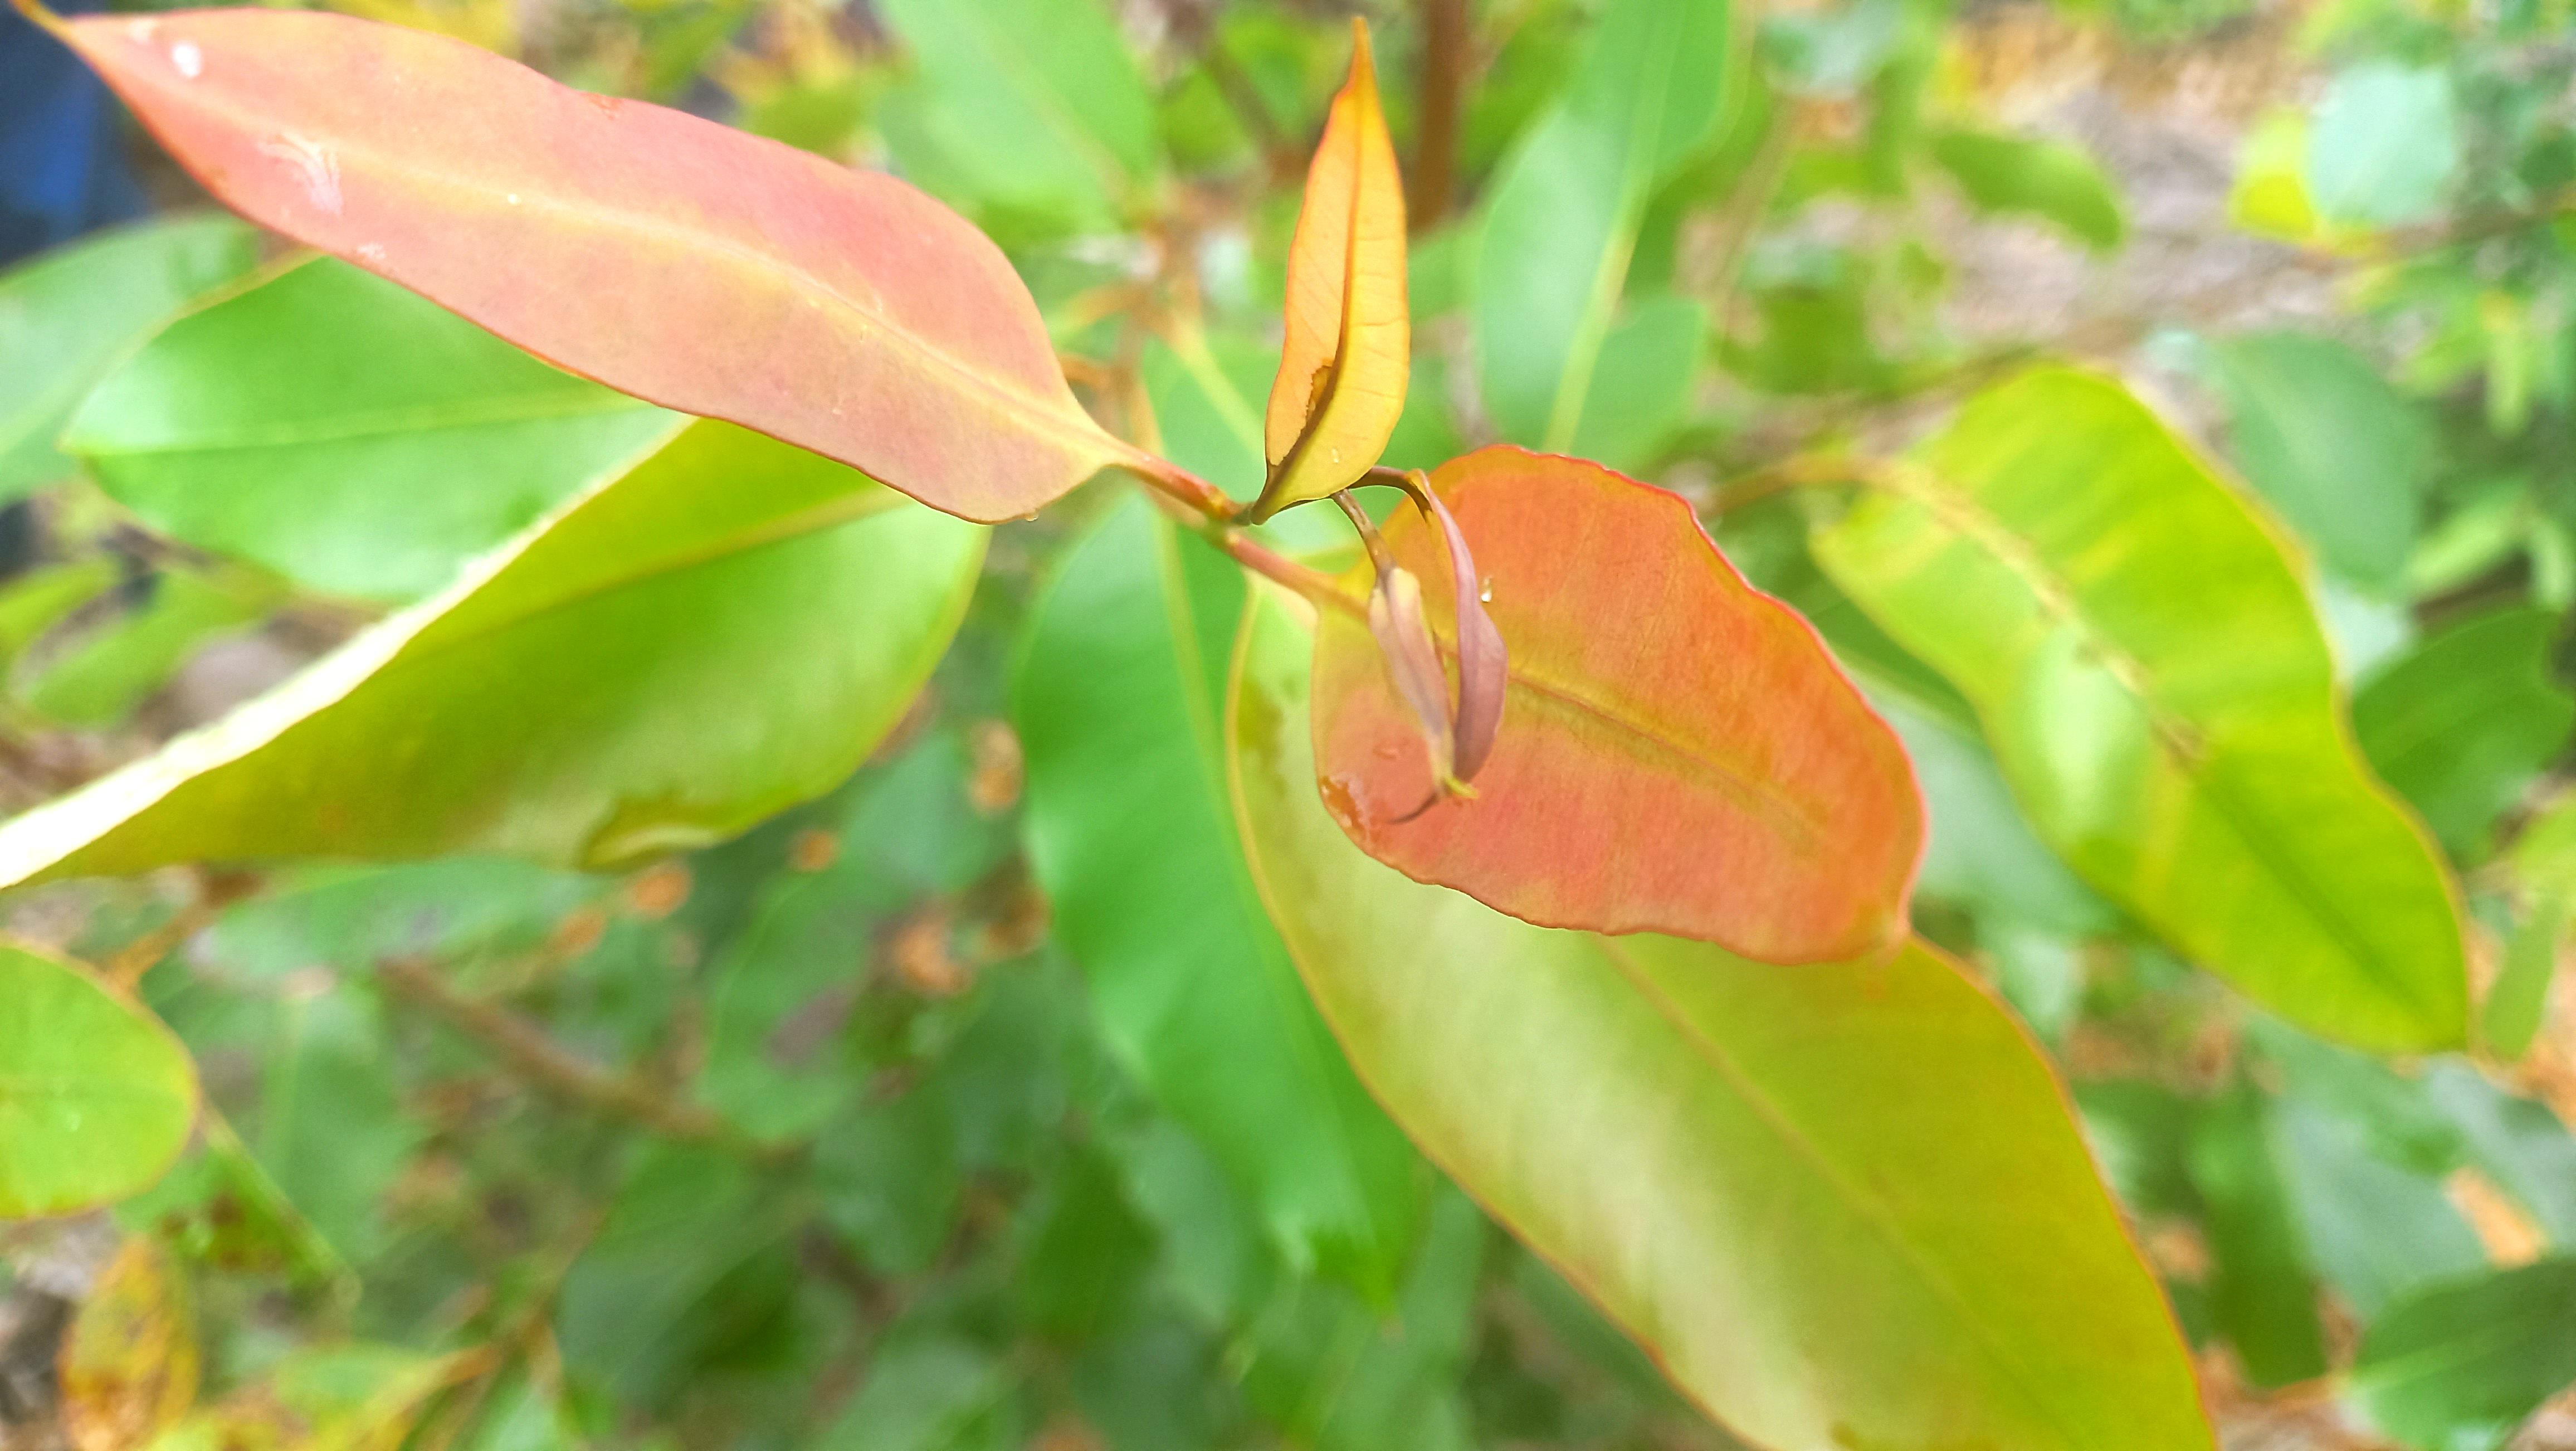Helopeltis-Withered Sprout: (12, 0, 1217, 527), (1263, 12, 1412, 506), (1382, 494, 1507, 823), (1364, 566, 1453, 809)
